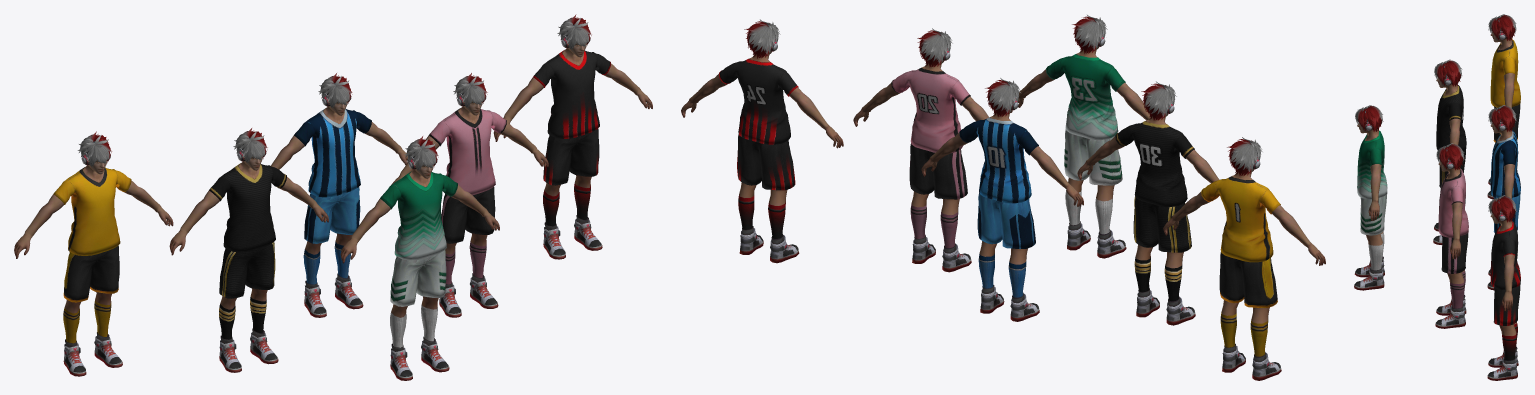
Rendered from all_freefire_rare_jersey_for_free_obj_file.glb.
3 renders of one model, left to right at view 1: azimuth 30°, elevation 25°; view 2: azimuth 150°, elevation 25°; view 3: azimuth 270°, elevation 25°, orthographic. The views are drawn at different scales.
Visible parts, largest first — view 1: Object_12, Object_13, Object_10, Object_8, Object_11, Object_9, Object_6, Object_7, Object_4, Object_5, Object_2, Object_3 (+18 smaller); view 2: Object_11, Object_13, Object_10, Object_8, Object_12, Object_9, Object_2, Object_6, Object_5, Object_3, Object_4, Object_7 (+18 smaller); view 3: Object_13, Object_11, Object_9, Object_12, Object_8, Object_10, Object_7, Object_3, Object_5, Object_15, Object_17, Object_19 (+15 smaller).
Part boxes in pixels (left/top/right/bottom): Object_12: left=53, top=167, right=131, bottom=255; Object_13: left=380, top=171, right=457, bottom=260; Object_10: left=209, top=163, right=286, bottom=252; Object_8: left=294, top=109, right=371, bottom=197; Object_11: left=533, top=50, right=610, bottom=138; Object_9: left=429, top=108, right=506, bottom=195; Object_6: left=63, top=245, right=119, bottom=343; Object_7: left=390, top=250, right=446, bottom=347; Object_4: left=219, top=242, right=275, bottom=339; Object_5: left=543, top=128, right=599, bottom=226; Object_2: left=303, top=187, right=360, bottom=284; Object_3: left=441, top=187, right=495, bottom=284; Object_11: left=719, top=58, right=798, bottom=144; Object_13: left=1046, top=54, right=1125, bottom=139; Object_10: left=1115, top=121, right=1194, bottom=206; Object_8: left=959, top=117, right=1038, bottom=203; Object_12: left=1201, top=176, right=1280, bottom=262; Object_9: left=891, top=68, right=970, bottom=153; Object_2: left=977, top=192, right=1035, bottom=297; Object_6: left=1219, top=252, right=1277, bottom=356; Object_5: left=737, top=134, right=795, bottom=238; Object_3: left=909, top=143, right=967, bottom=247; Object_4: left=1133, top=196, right=1191, bottom=301; Object_7: left=1064, top=129, right=1122, bottom=234; Object_13: left=1357, top=129, right=1387, bottom=199; Object_11: left=1490, top=220, right=1520, bottom=289; Object_9: left=1438, top=168, right=1468, bottom=237; Object_12: left=1490, top=38, right=1520, bottom=107; Object_8: left=1490, top=129, right=1520, bottom=198; Object_10: left=1436, top=84, right=1466, bottom=150; Object_7: left=1360, top=194, right=1386, bottom=270; Object_3: left=1441, top=233, right=1468, bottom=308; Object_5: left=1493, top=285, right=1520, bottom=360; Object_15: left=1438, top=161, right=1464, bottom=283; Object_17: left=1490, top=213, right=1516, bottom=335; Object_19: left=1357, top=123, right=1383, bottom=245.
Bounding box in the file's own units: 2.58 × 0.8925 × 0.7557.
Materials: 36 (36 with a texture image).
